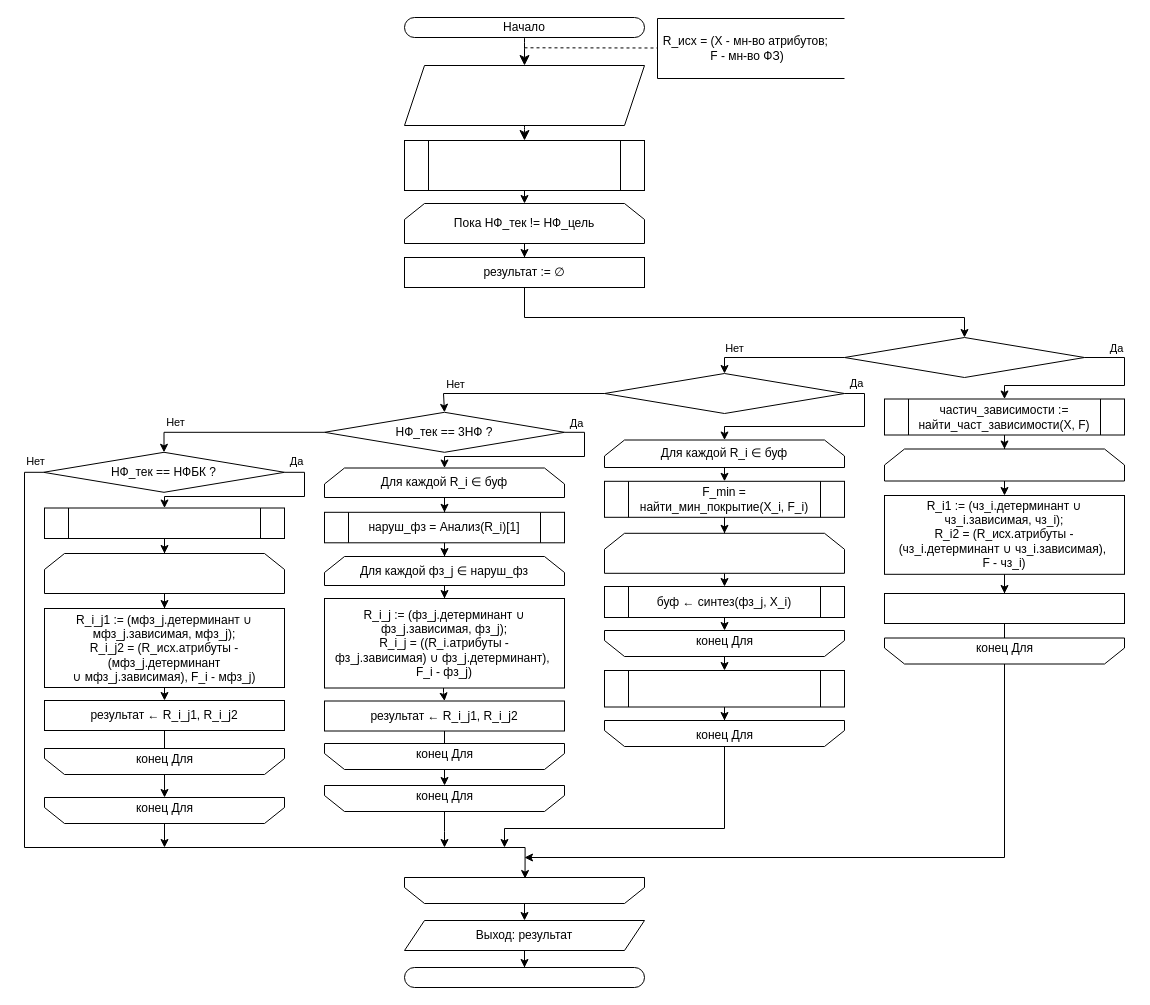
Some shapes in this 1150 by 1005 pixel diagram are drawn without their labels. Here are the shapes that lost their labels. From the top down, the centre of each, then its label:
At point 524,95: "Вход: R_исх - исходное отношение НФ_цель - целевая НФ".
At point 524,165: "НФ_тек := Анализ(R_исх)[0]; буф := R_исх результат := буф".
At point 964,357: "НФ_тек == 1НФ ?".
At point 724,393: "НФ_тек == 2НФ ?".
At point 1004,464: "Для каждой чз_i ∈ частич_зависимости".
At point 164,522: "наруш_мфз = Анализ(R_i)[1]".
At point 724,552: "Для каждой фз_j ∈ F_min".
At point 164,573: "Для каждой мфз_j ∈ наруш_мфз".
At point 1004,608: "результат ← R_i1, R_i2".
At point 724,688: "результат ← удалить_избытки(буф)".
At point 524,890: "конец Пока".
At point 524,977: "Конец".
